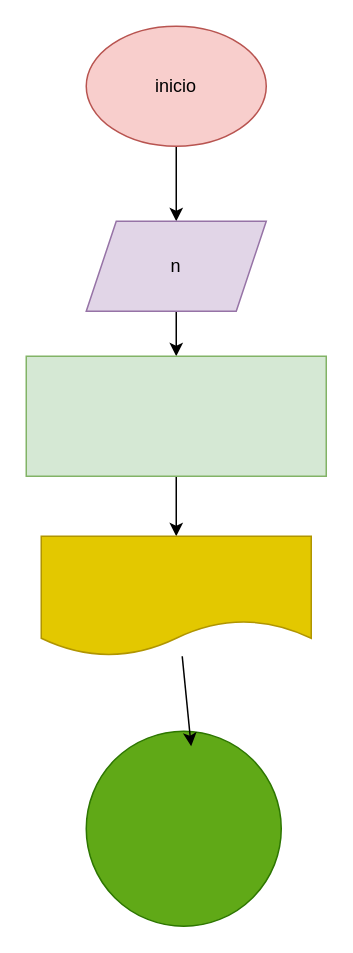
This 353x953 diagram has some shape labels left out. The shapes that lost their labels are listed below. From the top down, each one's centre as x and y in pixels, then its label:
At [175,415]: "numero a innvertir 6402".
At [183,828]: "fin".
